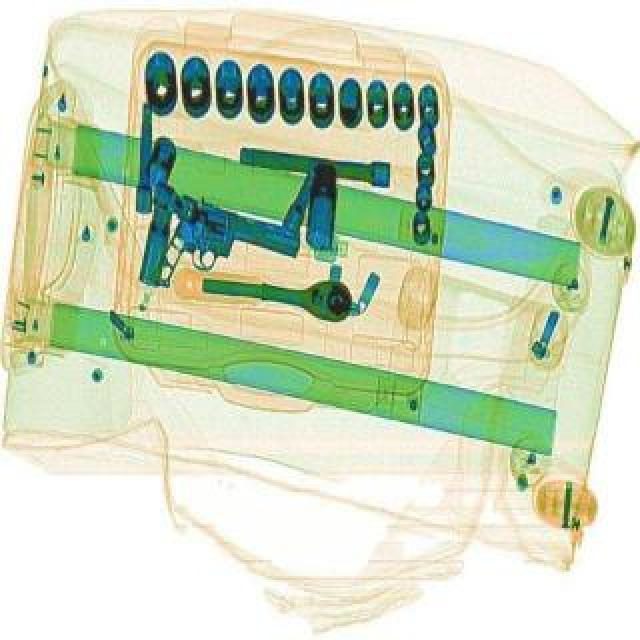gun: (148, 194, 304, 318)
